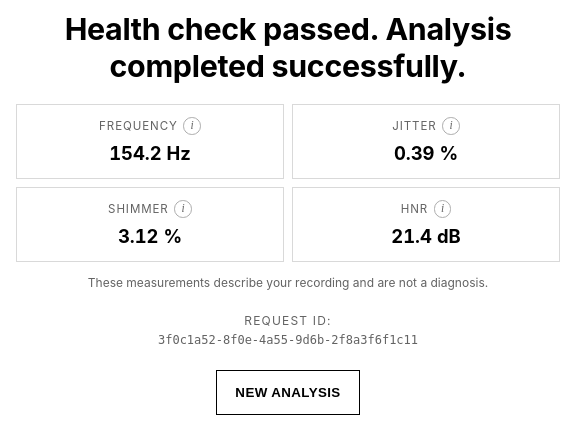
Test: AnalysisPage › voice measurements › keeps one explanation open at a time
The width and height of the screenshot is (577, 432).
Click the button named "What is Jitter?". click: (451, 126)
box: [442, 117, 460, 135]
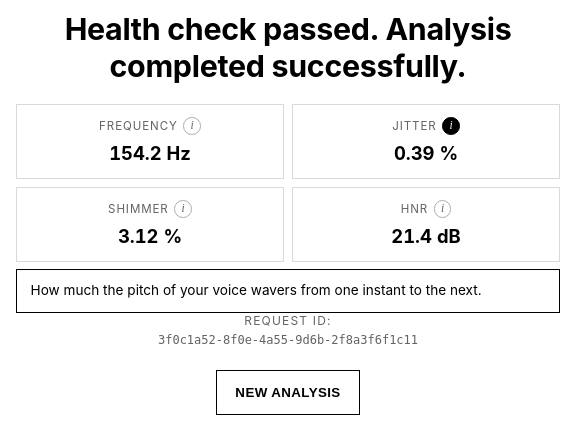
Click the button named "What is HNR?". click: (442, 209)
box: [434, 200, 451, 218]
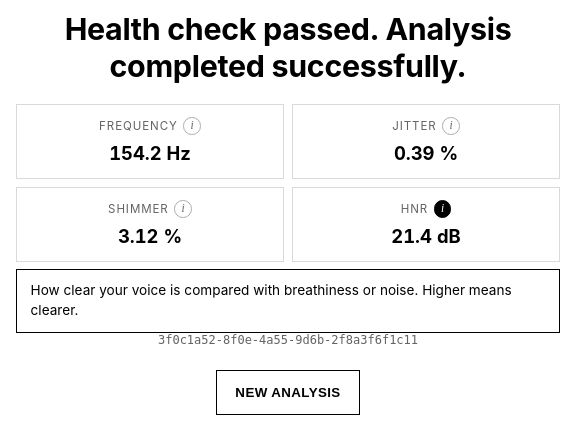
Result: the text "pitch of your voice wavers" is gone
Result: the text "How clear your voice is" is shown at [31, 282, 512, 318]
